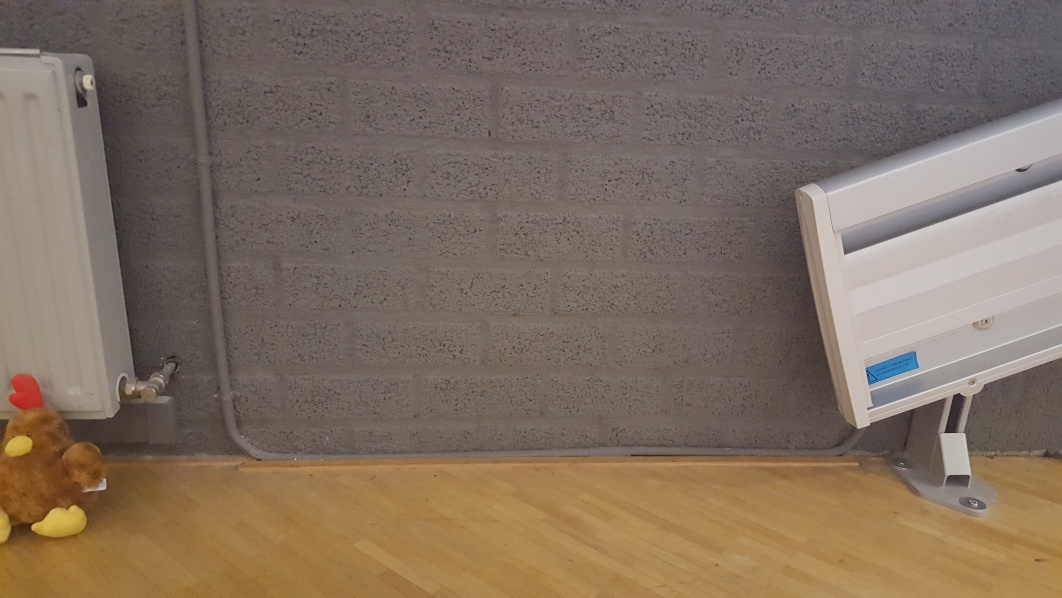chicken: (2, 374, 107, 548)
